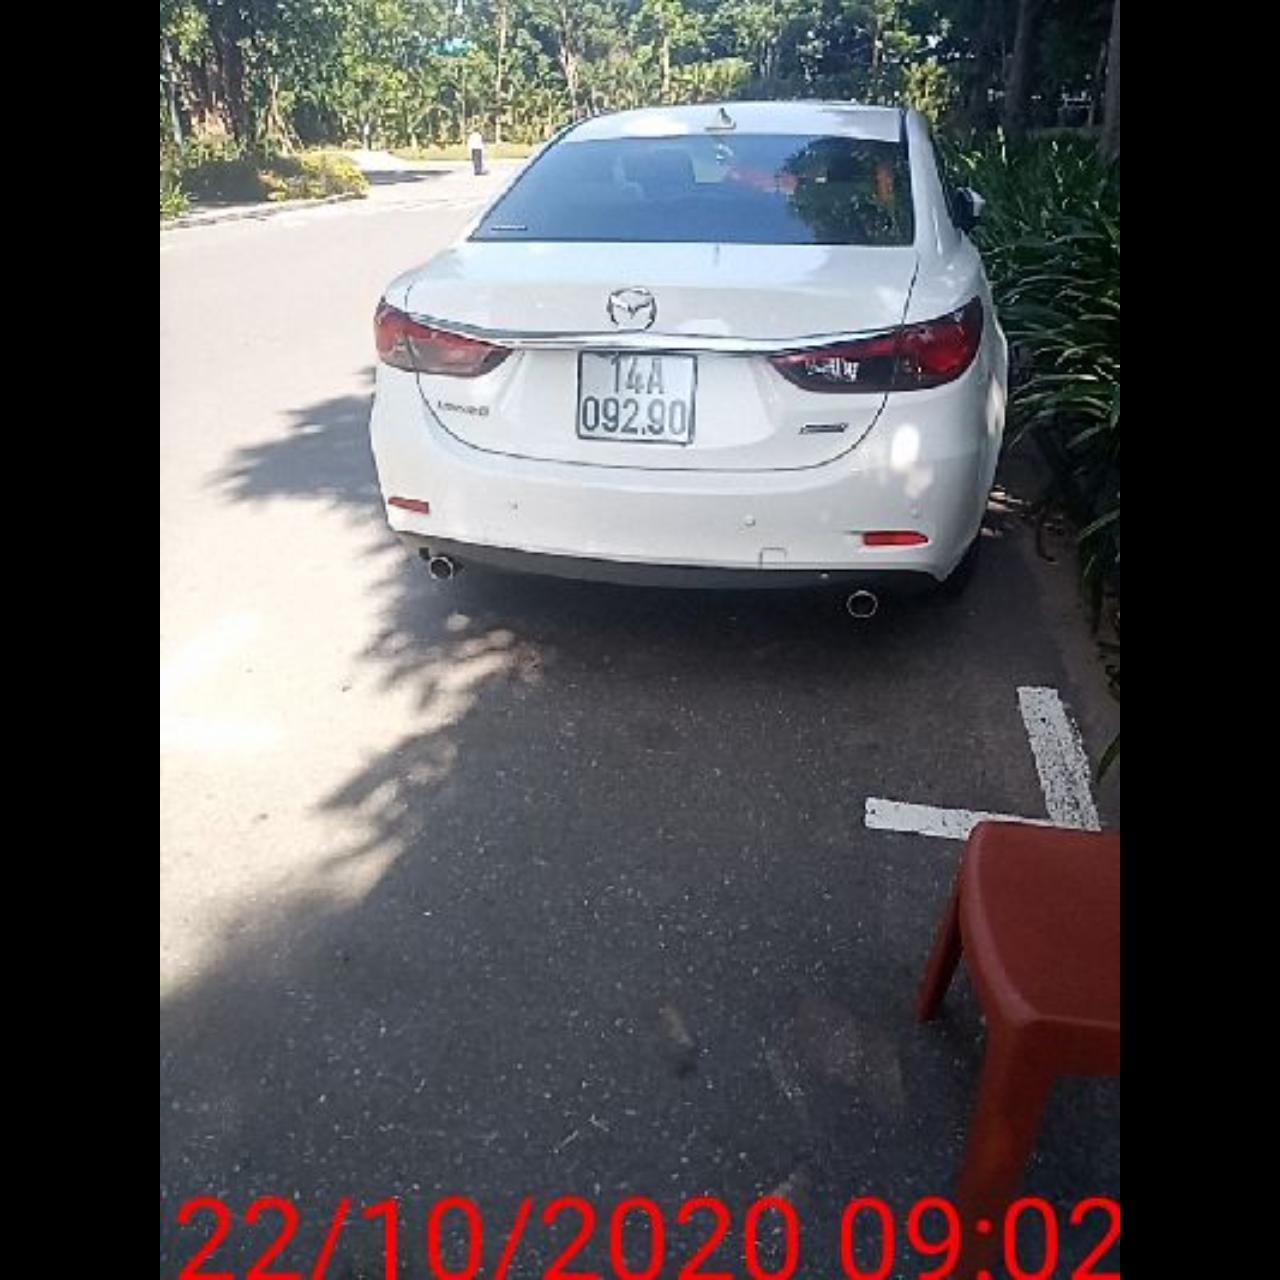bienso: (574, 345, 700, 447)
